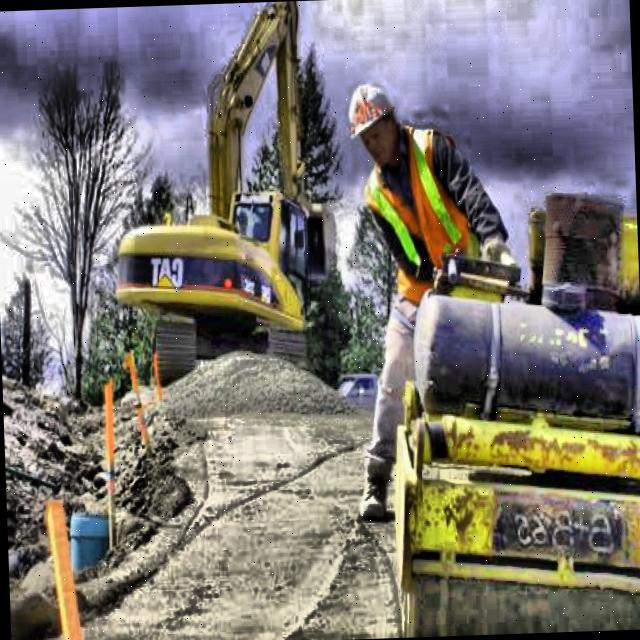helmet: (342, 72, 404, 166)
